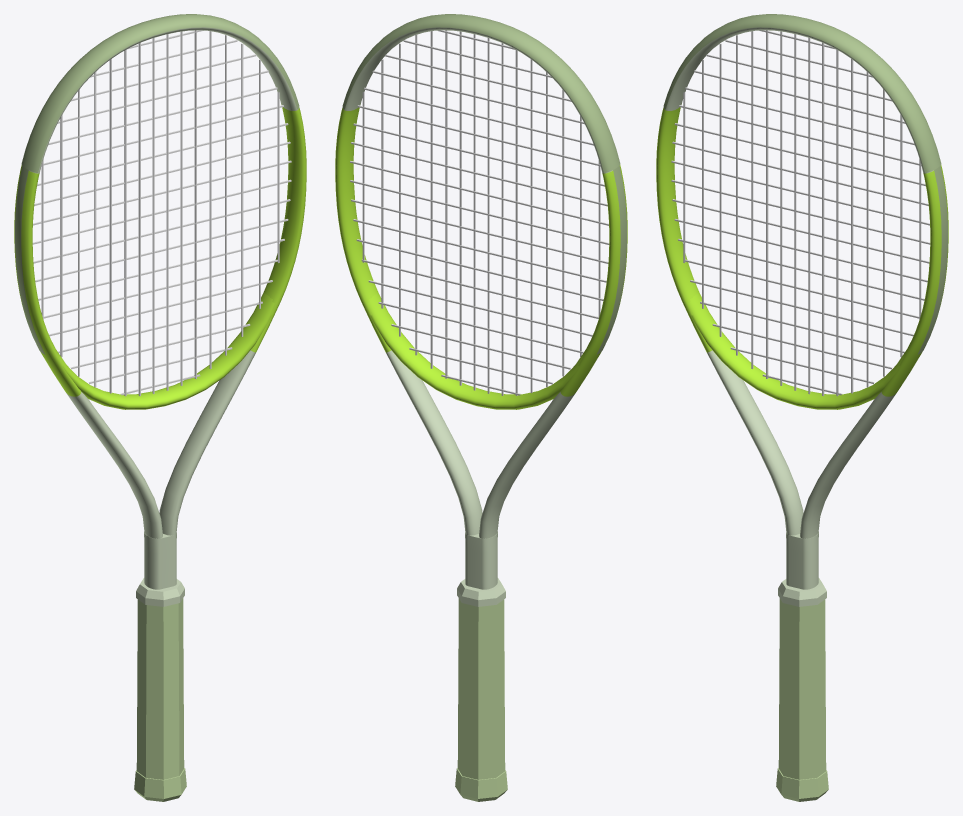
File: head-extreme-pro-2024.glb
The picture shows the model from 3 angles, left to right: view 1: azimuth 30°, elevation 25°; view 2: azimuth 150°, elevation 25°; view 3: azimuth 330°, elevation 25°; orthographic projection.
Parts seen in each view (by area): view 1: frame, strings_mains, strings_crosses, grip, bumper, grommets, butt_cap, collar; view 2: frame, strings_mains, strings_crosses, grip, bumper, grommets, butt_cap, collar; view 3: frame, strings_mains, strings_crosses, grip, bumper, grommets, butt_cap, collar.
Part boxes in pixels (box(x1,y1,x2,y2)): frame: box(14, 27, 306, 589); strings_mains: box(41, 30, 279, 396); strings_crosses: box(32, 30, 291, 395); grip: box(136, 598, 184, 779); bumper: box(21, 14, 299, 172); grommets: box(15, 166, 45, 354); butt_cap: box(134, 768, 186, 801); collar: box(136, 578, 184, 606); frame: box(335, 27, 627, 589); strings_mains: box(362, 30, 600, 395); strings_crosses: box(350, 30, 609, 395); grip: box(457, 598, 505, 779); bumper: box(342, 14, 620, 172); grommets: box(596, 166, 626, 354); butt_cap: box(455, 768, 507, 801); collar: box(457, 578, 505, 606); frame: box(656, 27, 948, 589); strings_mains: box(683, 30, 921, 396); strings_crosses: box(671, 30, 930, 395); grip: box(778, 598, 826, 779); bumper: box(663, 14, 941, 172); grommets: box(917, 166, 947, 354); butt_cap: box(776, 768, 828, 801); collar: box(778, 578, 826, 606).
Size of the model in its own units: 0.2662 by 0.6861 by 0.0396.
